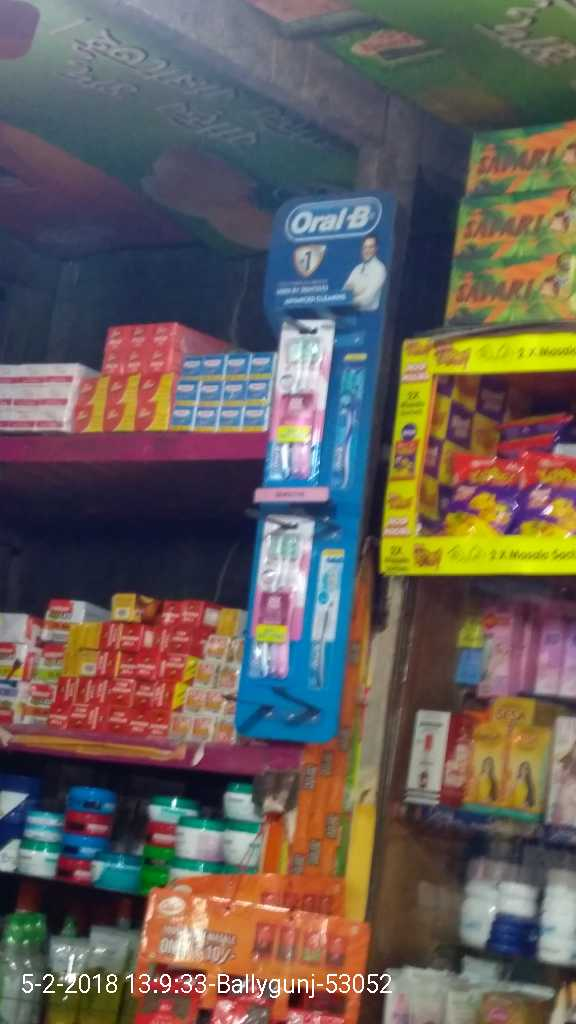oralb: (268, 317, 322, 482), (250, 512, 313, 643)
